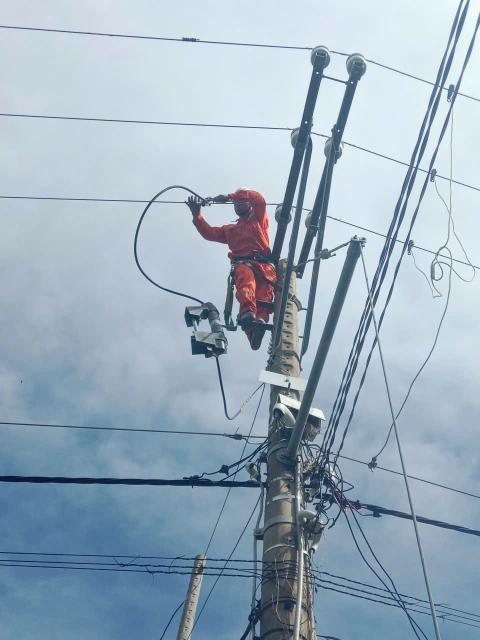harness: (229, 246, 277, 272)
helmet: (228, 183, 257, 205)
shoes: (249, 315, 267, 350), (235, 312, 258, 334)
